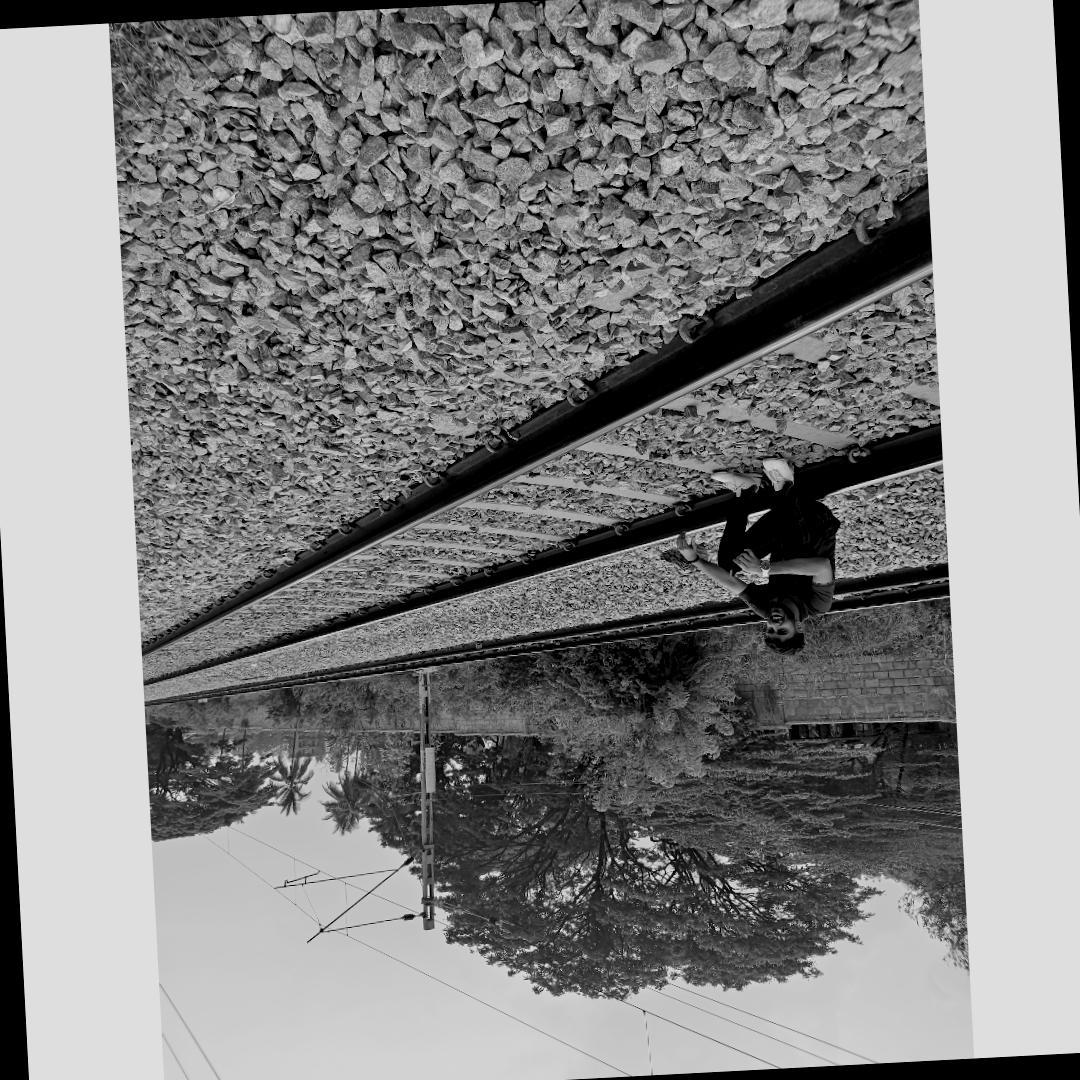sitting: (678, 434, 866, 656)
track: (142, 106, 944, 708)
